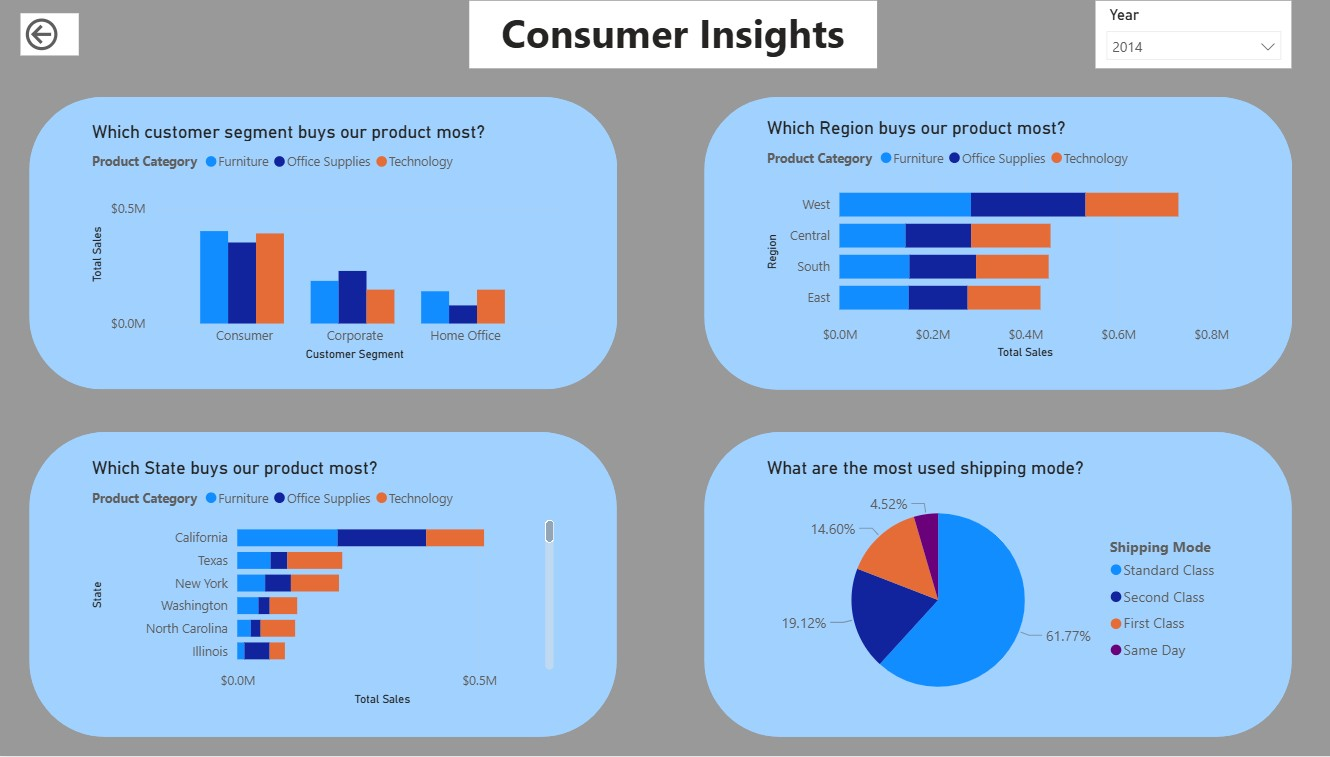

The page's visual inventory and layout, read from the dashboard file:
{"tool":"powerbi","page":{"name":"Customer Insights","canvas":[1280,720],"ordinal":3},"visuals":[{"type":"shape","box":[669.1,94.7,557.1,277.3],"z":0},{"type":"shape","box":[29.6,412.1,556.6,289],"z":1000},{"type":"shape","box":[669.1,412.1,556.6,289],"z":2000},{"type":"shape","box":[30,94.3,557.1,277.1],"z":3000},{"type":"clusteredColumnChart","title":"Which customer segment buys our product most?","fields":{"Category":["Customer Table.Segment"],"Y":["_All Measures.Total Sales"],"Series":["Dim_Product_Table.Category"]},"box":[84.1,117.2,447.7,232.1],"z":4000},{"type":"barChart","title":"Which Region buys our product most?","fields":{"Category":["Customer Table.Region"],"Y":["_All Measures.Total Sales"],"Series":["Dim_Product_Table.Category"]},"box":[723.6,113.9,447.9,234.2],"z":5000},{"type":"barChart","title":"Which State buys our product most?","fields":{"Category":["Customer Table.State"],"Series":["Dim_Product_Table.Category"],"Y":["_All Measures.Total Sales"]},"box":[84.1,435.8,447.7,240.4],"z":6000},{"type":"textbox","box":[446.5,3.6,386.1,64],"z":8000},{"type":"actionButton","box":[21.1,15.6,55.6,40],"z":9000},{"type":"slicer","fields":{"Values":["Date Table (Order Date).Year"]},"box":[1039.8,3.6,185.9,64],"z":10000},{"type":"pieChart","title":"What are the most used shipping mode?","fields":{"Category":["Fact_Superstore Sales Table.Ship Mode"],"Y":["_All Measures.Total No. Of Order"]},"box":[723.6,435.8,447.7,252.3],"z":11000}]}

Visuals, with their boxes in screenshot pixels (x1, y1, x2, y2), scaled from the page's 1280x720 canvas onto the 1330x757 screenshot:
shape: [695,100,1274,391]
shape: [31,433,609,737]
shape: [695,433,1274,737]
shape: [31,99,610,390]
"Which customer segment buys our product most?" clusteredColumnChart: [87,123,553,367]
"Which Region buys our product most?" barChart: [752,120,1217,366]
"Which State buys our product most?" barChart: [87,458,553,711]
textbox: [464,4,865,71]
actionButton: [22,16,80,58]
slicer - Date Table (Order Date).Year: [1080,4,1274,71]
"What are the most used shipping mode?" pieChart: [752,458,1217,723]
